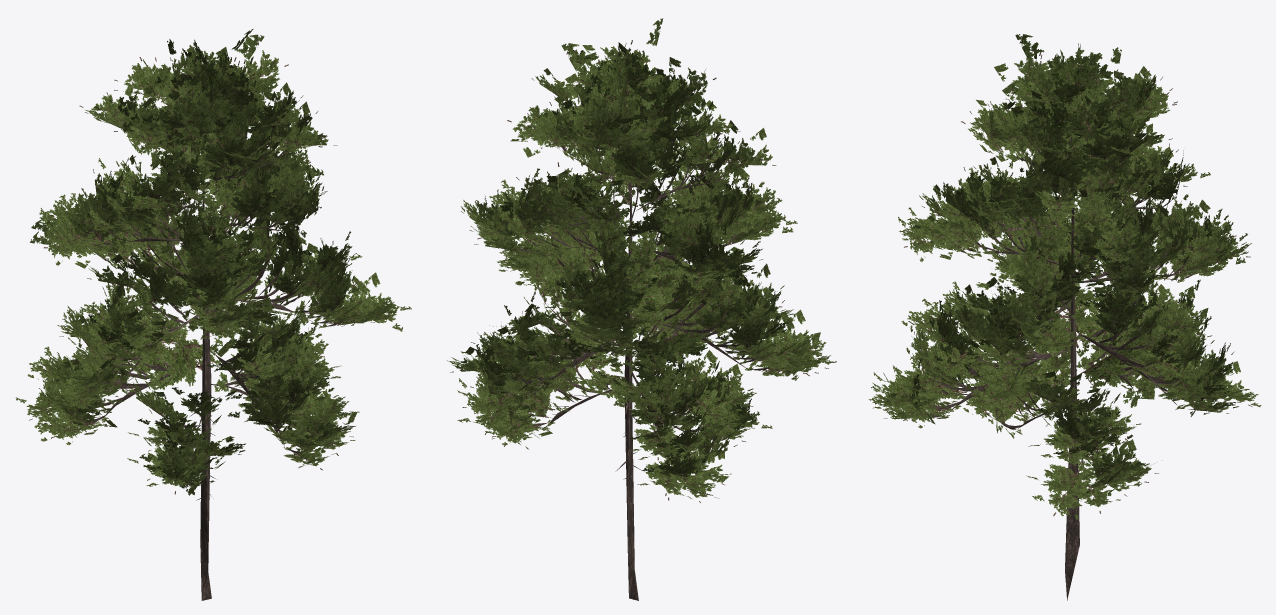
The model's file is tree_pine.obj.
3 renders of one model, left to right at view 1: azimuth 30°, elevation 25°; view 2: azimuth 150°, elevation 25°; view 3: azimuth 270°, elevation 25°, orthographic.
Visible parts, largest first — view 1: Tree_Branches, Tree_Bark; view 2: Tree_Branches, Tree_Bark; view 3: Tree_Branches, Tree_Bark.
Boxes of the visible parts, x1,y1,x2,y2 form: Tree_Branches: [16, 29, 411, 495]; Tree_Bark: [81, 103, 345, 600]; Tree_Branches: [447, 18, 836, 502]; Tree_Bark: [504, 107, 774, 600]; Tree_Branches: [868, 34, 1261, 519]; Tree_Bark: [925, 116, 1198, 600].
Size of the model in its own units: 11.33 by 17.58 by 11.08.
Materials: 2 (2 with a texture image).
